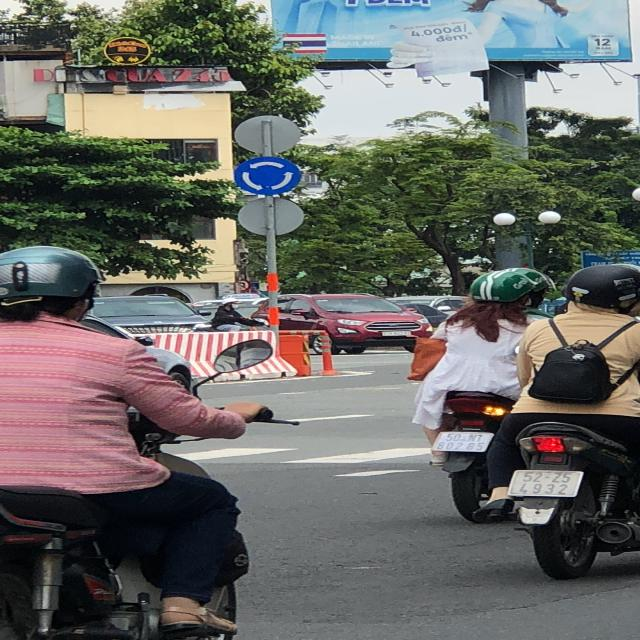Bien bao noi giao nhau chay theo vong xuyen: (231, 156, 309, 197)
